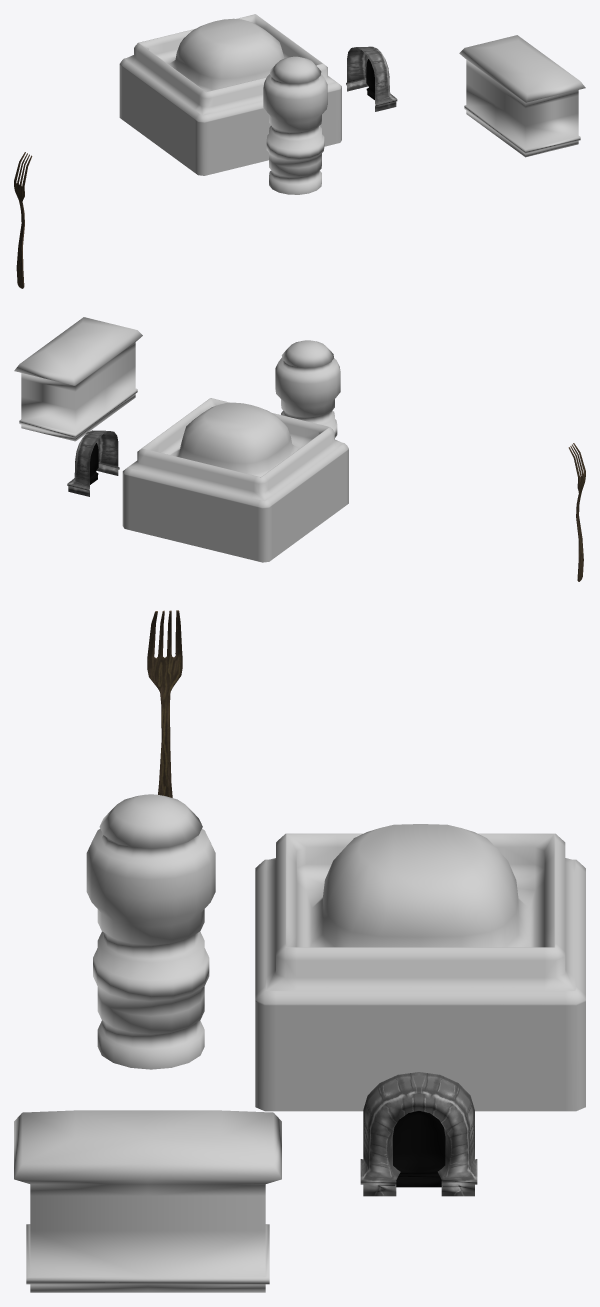
File: PosateEnv1.fbx
The picture shows the model from 3 angles, top to bottom: view 1: azimuth 30°, elevation 25°; view 2: azimuth 150°, elevation 25°; view 3: azimuth 270°, elevation 25°; orthographic projection. The views are drawn at different scales.
Visible parts, largest first — view 1: Plane.001, Cube, Circle.001, Circle.005, Fork; view 2: Plane.001, Cube, Circle.001, Circle.005, Fork; view 3: Plane.001, Cube, Circle.001, Circle.005, Fork.
Part boxes in pixels (x1,y1,x2,y2): Plane.001: (119, 14, 341, 175); Cube: (459, 35, 585, 157); Circle.001: (263, 56, 327, 194); Circle.005: (346, 46, 397, 111); Fork: (14, 152, 32, 288); Plane.001: (122, 398, 348, 562); Cube: (14, 317, 142, 441); Circle.001: (275, 340, 340, 438); Circle.005: (67, 430, 119, 496); Fork: (568, 443, 585, 581); Plane.001: (255, 824, 585, 1111); Cube: (14, 1110, 281, 1292); Circle.001: (86, 794, 215, 1069); Circle.005: (360, 1072, 477, 1196); Fork: (147, 610, 182, 797).
Size of the model in its own units: 4947 by 1467 by 2326.
